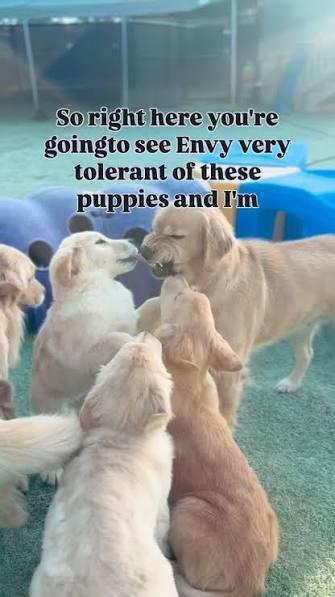adult_dog: (139, 205, 335, 431)
puppy-dog: (136, 274, 281, 597), (31, 331, 179, 597), (31, 230, 172, 416), (0, 243, 45, 421)
